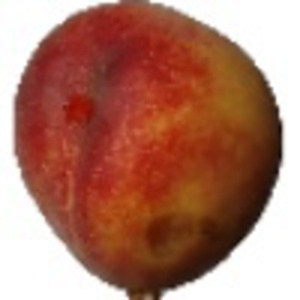pêssego: (11, 1, 285, 300)
